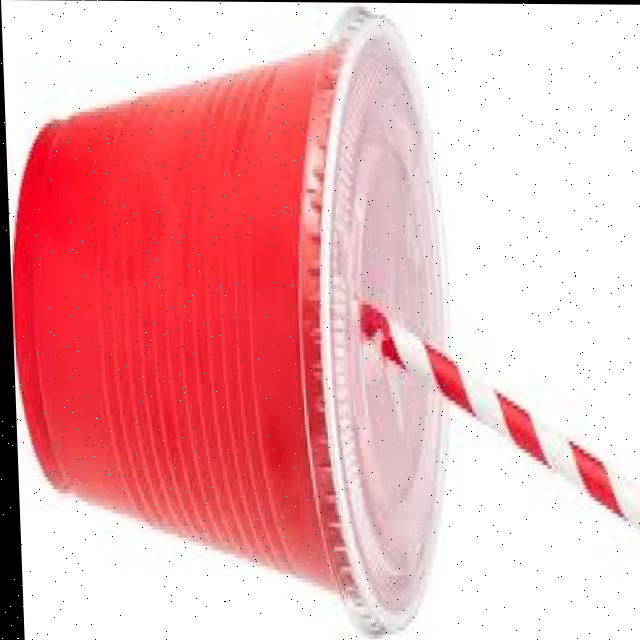cup: (8, 21, 469, 616)
